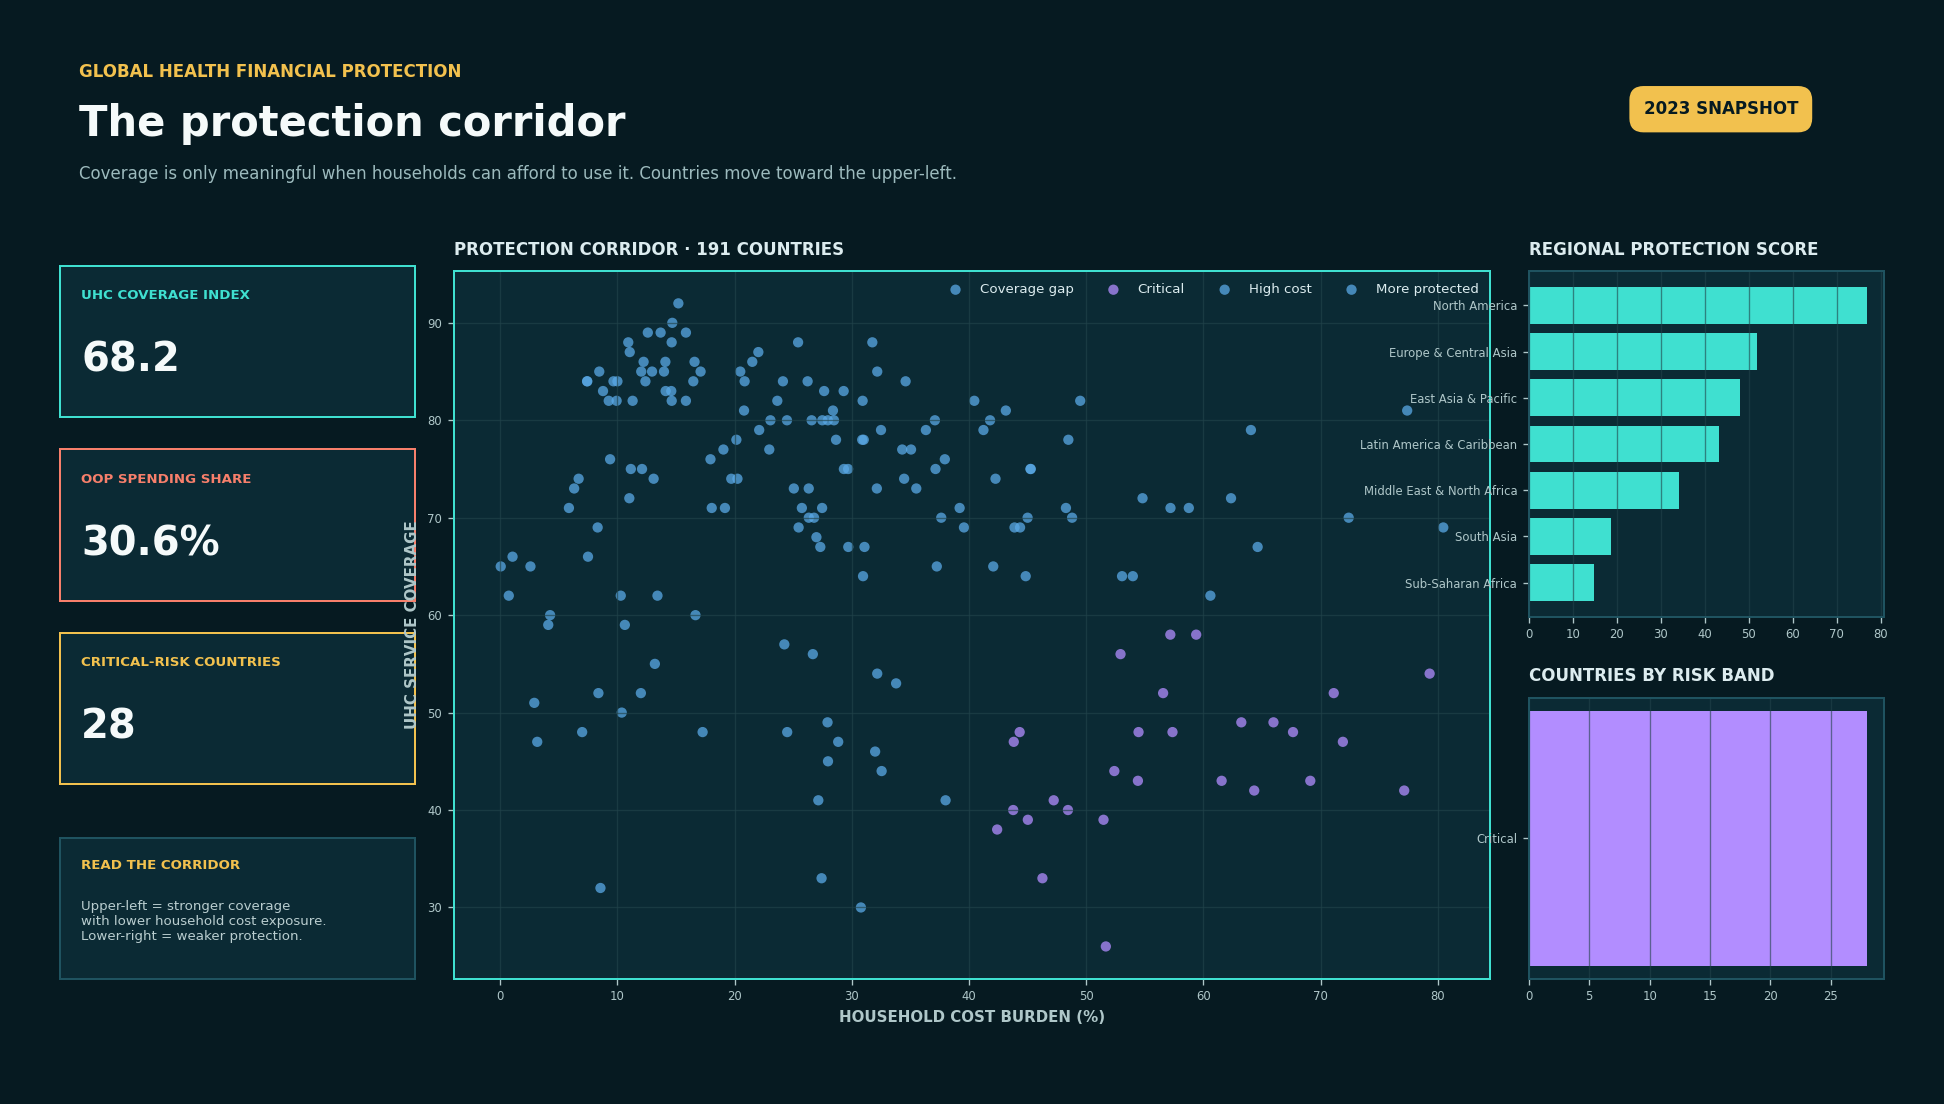

The page's visual inventory and layout, read from the dashboard file:
{"tool":"powerbi","page":{"name":"Coverage & Spending","canvas":[1280,720],"ordinal":0},"visuals":[{"type":"textbox","box":[28.3,20.8,342,47.2],"z":1000},{"type":"textbox","box":[28.3,43.5,759.7,62.4],"z":2000},{"type":"textbox","box":[30.2,90.7,899.5,47.2],"z":3000},{"type":"textbox","box":[1100,28,150,44],"z":4000},{"type":"card","title":"UHC COVERAGE INDEX","fields":{"Values":["HealthAccess.Latest UHC"]},"box":[28,138,235,142],"z":5000},{"type":"card","title":"OOP SPENDING SHARE","fields":{"Values":["HealthAccess.Latest OOP"]},"box":[28,294,235,142],"z":6000},{"type":"card","title":"LOWER UHC / HIGHER OOP COUNTRIES","fields":{"Values":["HealthAccess.Critical Countries"]},"box":[28,450,235,142],"z":7000},{"type":"textbox","box":[28.3,608.5,234.3,94.5],"z":8000},{"type":"scatterChart","title":"UHC AND OOP SHARE BY COUNTRY","fields":{"Category":["HealthAccess.Country"],"Series":["HealthAccess.RiskBand"],"X":["HealthAccess.Latest OOP"],"Y":["HealthAccess.Latest UHC"]},"box":[282,138,690,544],"z":9000},{"type":"clusteredBarChart","title":"REGIONAL UHC MINUS OOP SHARE","fields":{"Category":["HealthAccess.Region"],"Y":["HealthAccess.Latest Protection Score"]},"box":[992,138,260,315],"z":10000},{"type":"clusteredBarChart","title":"COUNTRIES BY INDICATOR QUADRANT","fields":{"Category":["HealthAccess.RiskBand"],"Y":["HealthAccess.Countries Tracked"]},"box":[992,473,260,209],"z":11000}]}

Visuals, with their boxes in screenshot pixels (x1, y1, x2, y2), scaled from the page's 1280x720 canvas onto the 1944x1104 screenshot:
textbox: bbox=(43, 32, 562, 104)
textbox: bbox=(43, 67, 1197, 162)
textbox: bbox=(46, 139, 1412, 211)
textbox: bbox=(1671, 43, 1898, 110)
"UHC COVERAGE INDEX" card: bbox=(43, 212, 399, 429)
"OOP SPENDING SHARE" card: bbox=(43, 451, 399, 669)
"LOWER UHC / HIGHER OOP COUNTRIES" card: bbox=(43, 690, 399, 908)
textbox: bbox=(43, 933, 399, 1078)
"UHC AND OOP SHARE BY COUNTRY" scatterChart: bbox=(428, 212, 1476, 1046)
"REGIONAL UHC MINUS OOP SHARE" clusteredBarChart: bbox=(1507, 212, 1901, 695)
"COUNTRIES BY INDICATOR QUADRANT" clusteredBarChart: bbox=(1507, 725, 1901, 1046)
